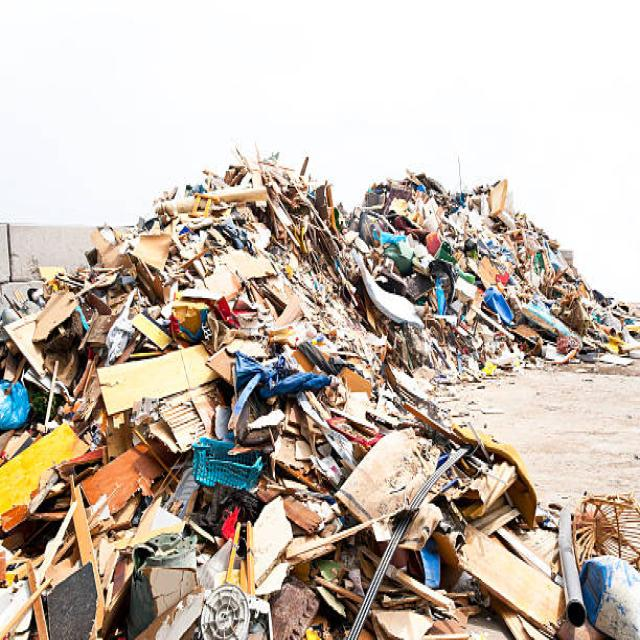cardboard: (40, 442, 162, 637), (133, 221, 305, 331), (91, 358, 223, 442), (378, 216, 447, 352), (458, 213, 554, 284)
